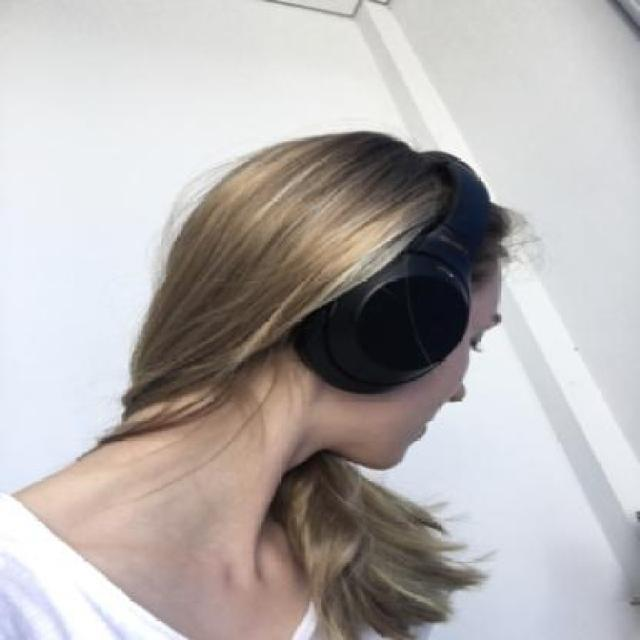earphone: (293, 55, 485, 408)
